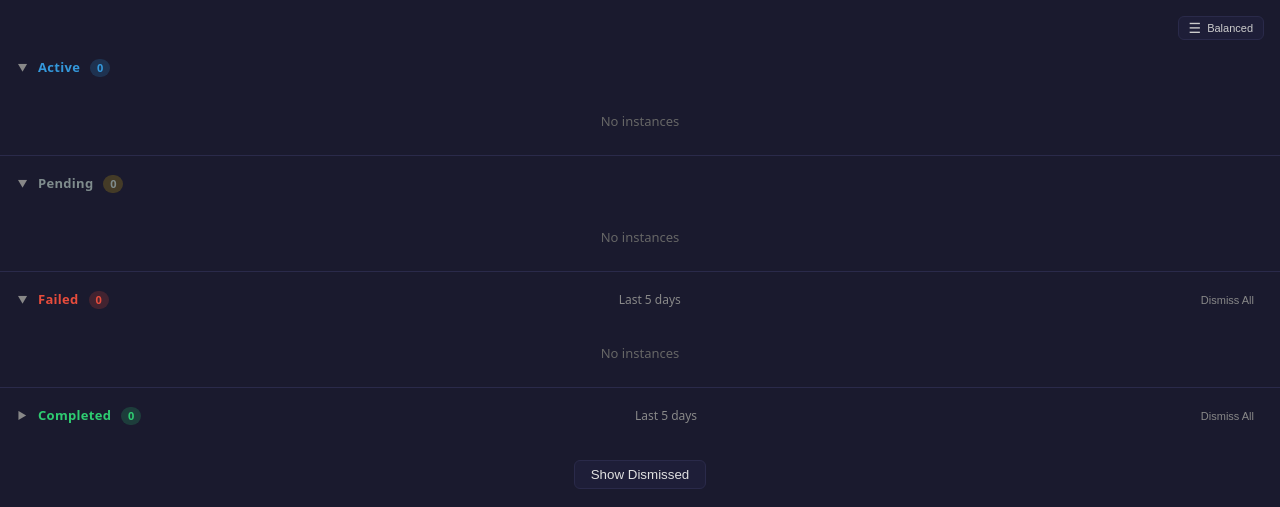
Test: QueueView show-dismissed end-to-end render › shows a Restore button (not Dismiss) for dismissed items after Show Dismissed is enabled
The width and height of the screenshot is (1280, 507).
# Enable Show Dismissed.
Step 1. Click the button "Show Dismissed" → (640, 474), box top-left (574, 460), bottom-right (706, 488)
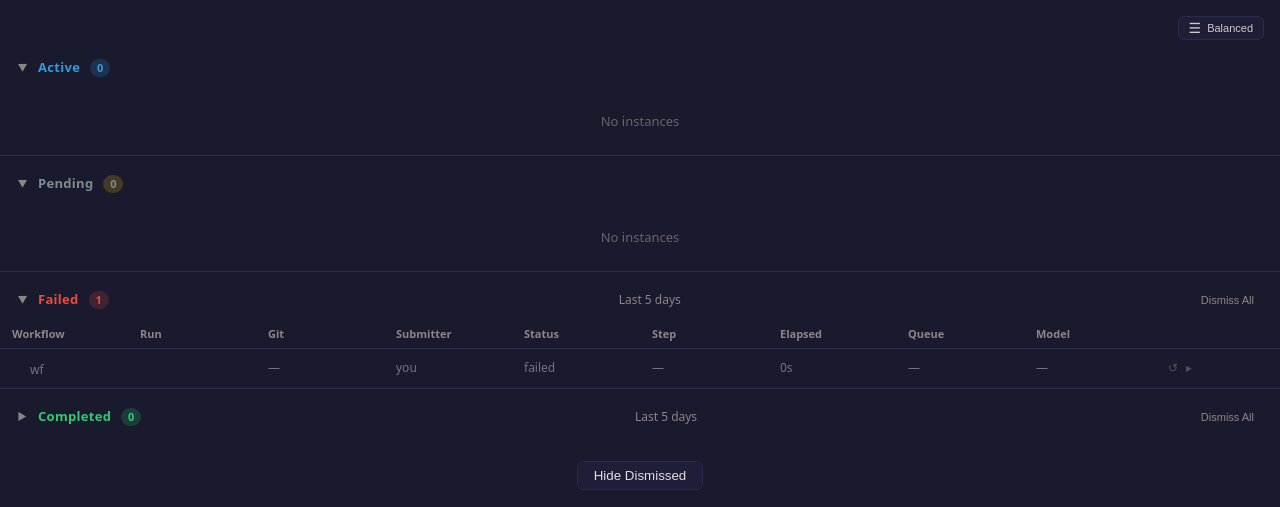
expect the button named "Restore" is shown: met, box top-left (1164, 359), bottom-right (1182, 377)
